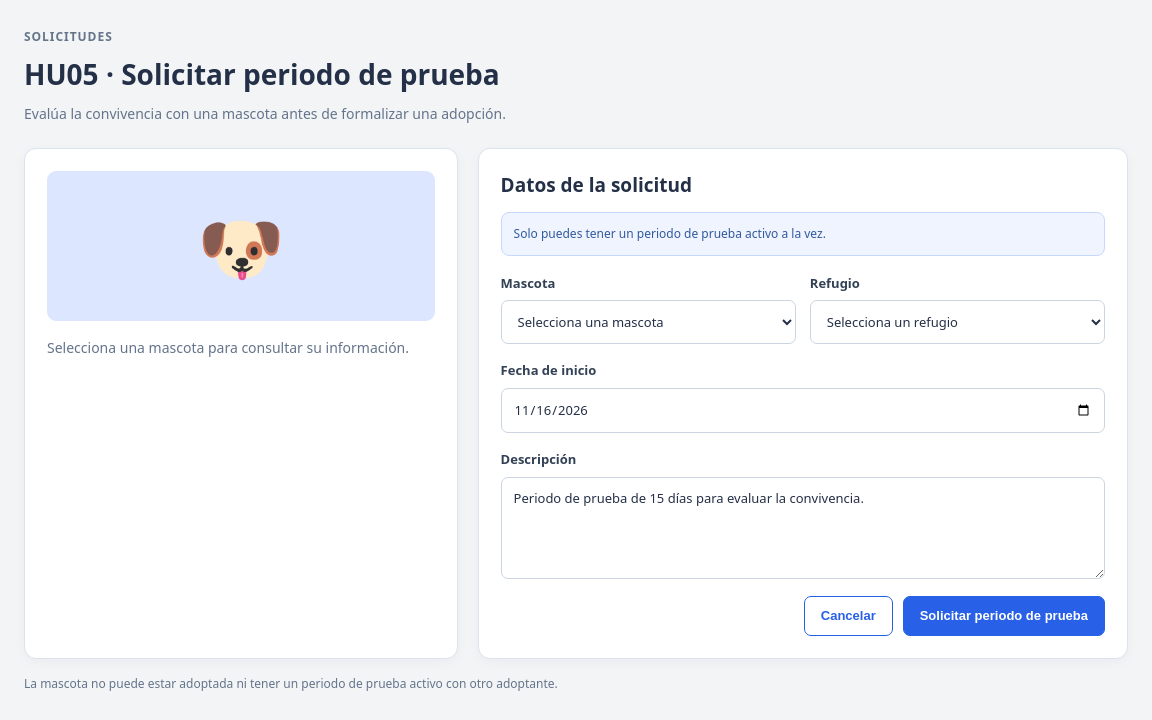
Test: TrialRequestPage › impide solicitar otro periodo si el adoptante ya tiene uno activo
This screenshot has width=1152, height=720.
Expected: the heading "Datos de la solicitud" is shown, 501,172 -> 692,198
Select "Rocky" in the dropdown labelled "Mascota" at coordinates (648, 322), box 501,300 -> 796,344
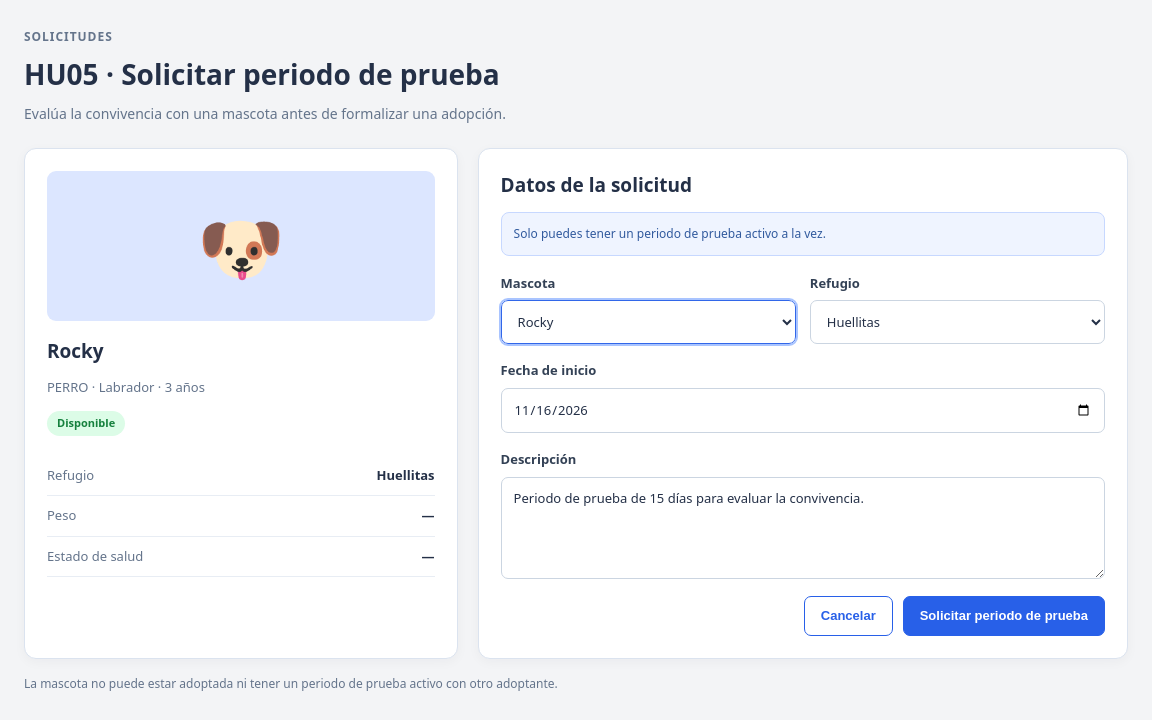
Select "Huellitas" in the dropdown labelled "Refugio" at coordinates (957, 322), box 810,300 -> 1105,344
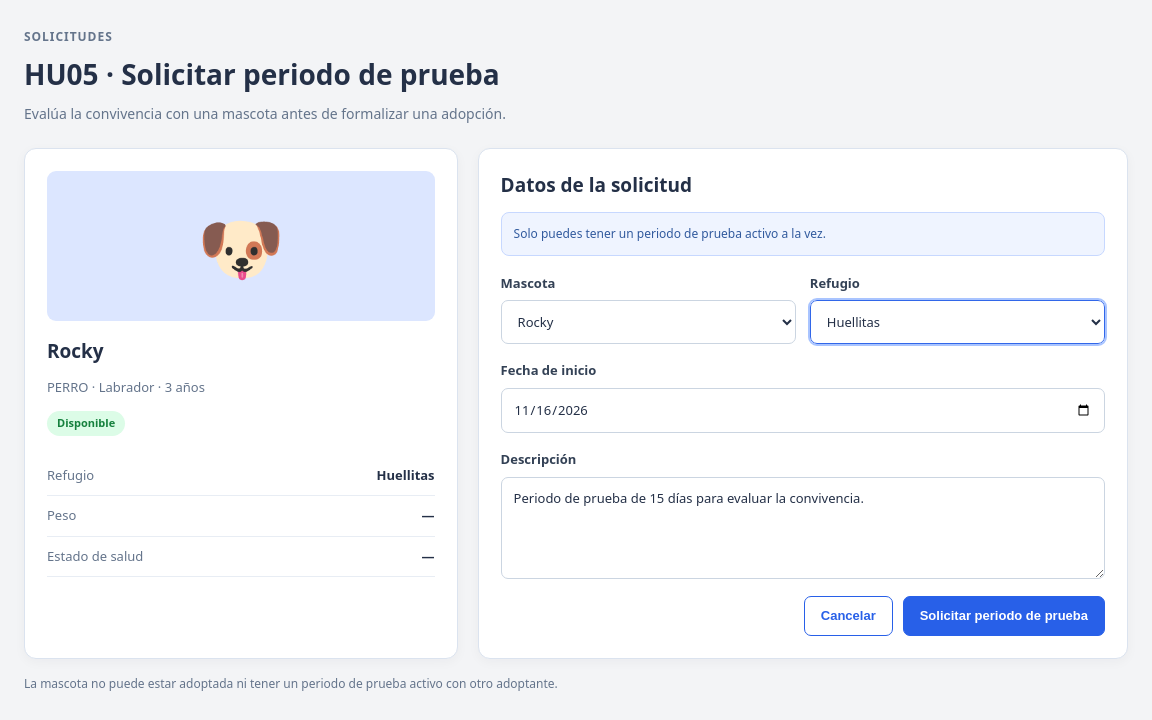
Click the button "Solicitar periodo de prueba".
click(1004, 616)  # box 903,596 -> 1105,636
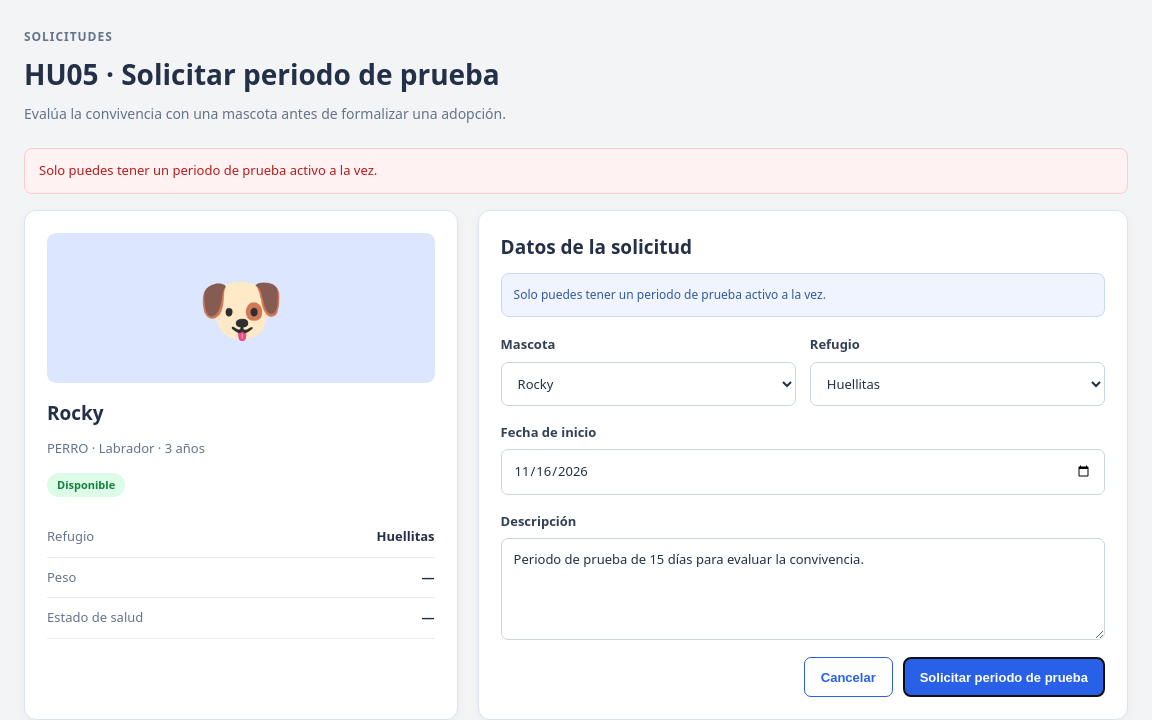
Result: the message "Solo puedes tener un periodo de prueba activo a la vez." is shown at 24,148 -> 1128,194
